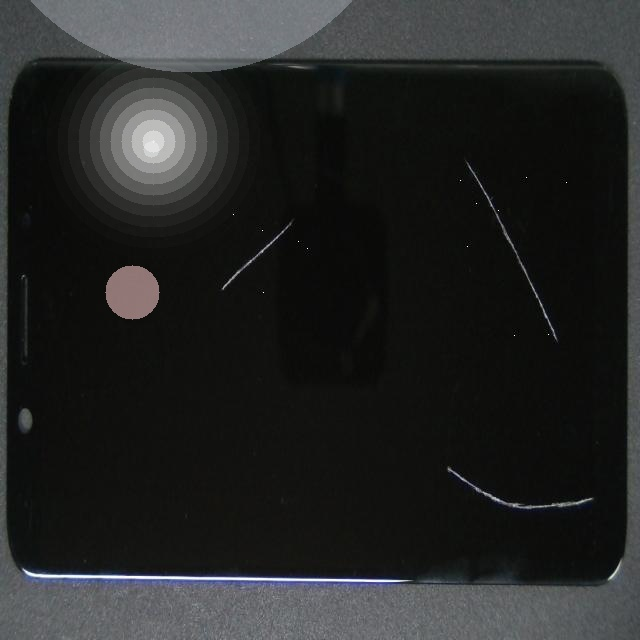scratch: (101, 135, 318, 447), (246, 70, 640, 219)
